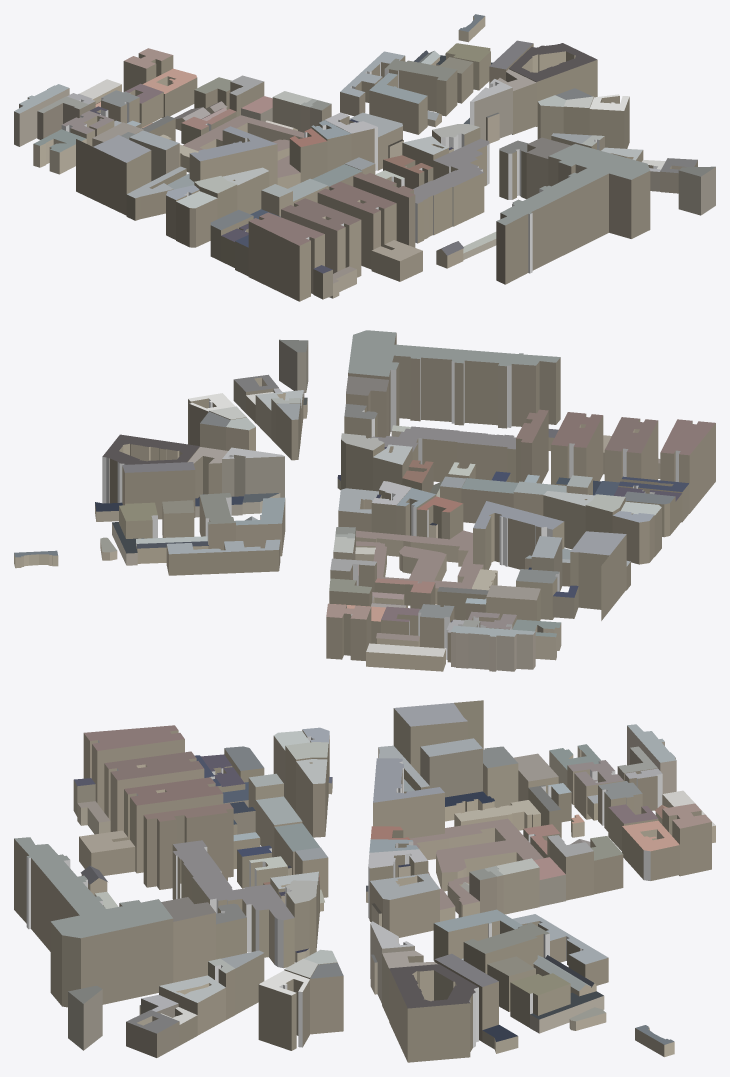
3 renders of one model, top to bottom at view 1: azimuth 30°, elevation 25°; view 2: azimuth 150°, elevation 25°; view 3: azimuth 270°, elevation 25°, orthographic. The views are drawn at different scales.
Parts seen in each view (by area): view 1: tuile; view 2: tuile; view 3: tuile.
Boxes of the visible parts, bbox=[...] form: tuile: bbox=[14, 14, 715, 301]; tuile: bbox=[14, 330, 715, 671]; tuile: bbox=[14, 700, 715, 1062].
Size of the model in its own units: 276 by 33.93 by 284.
